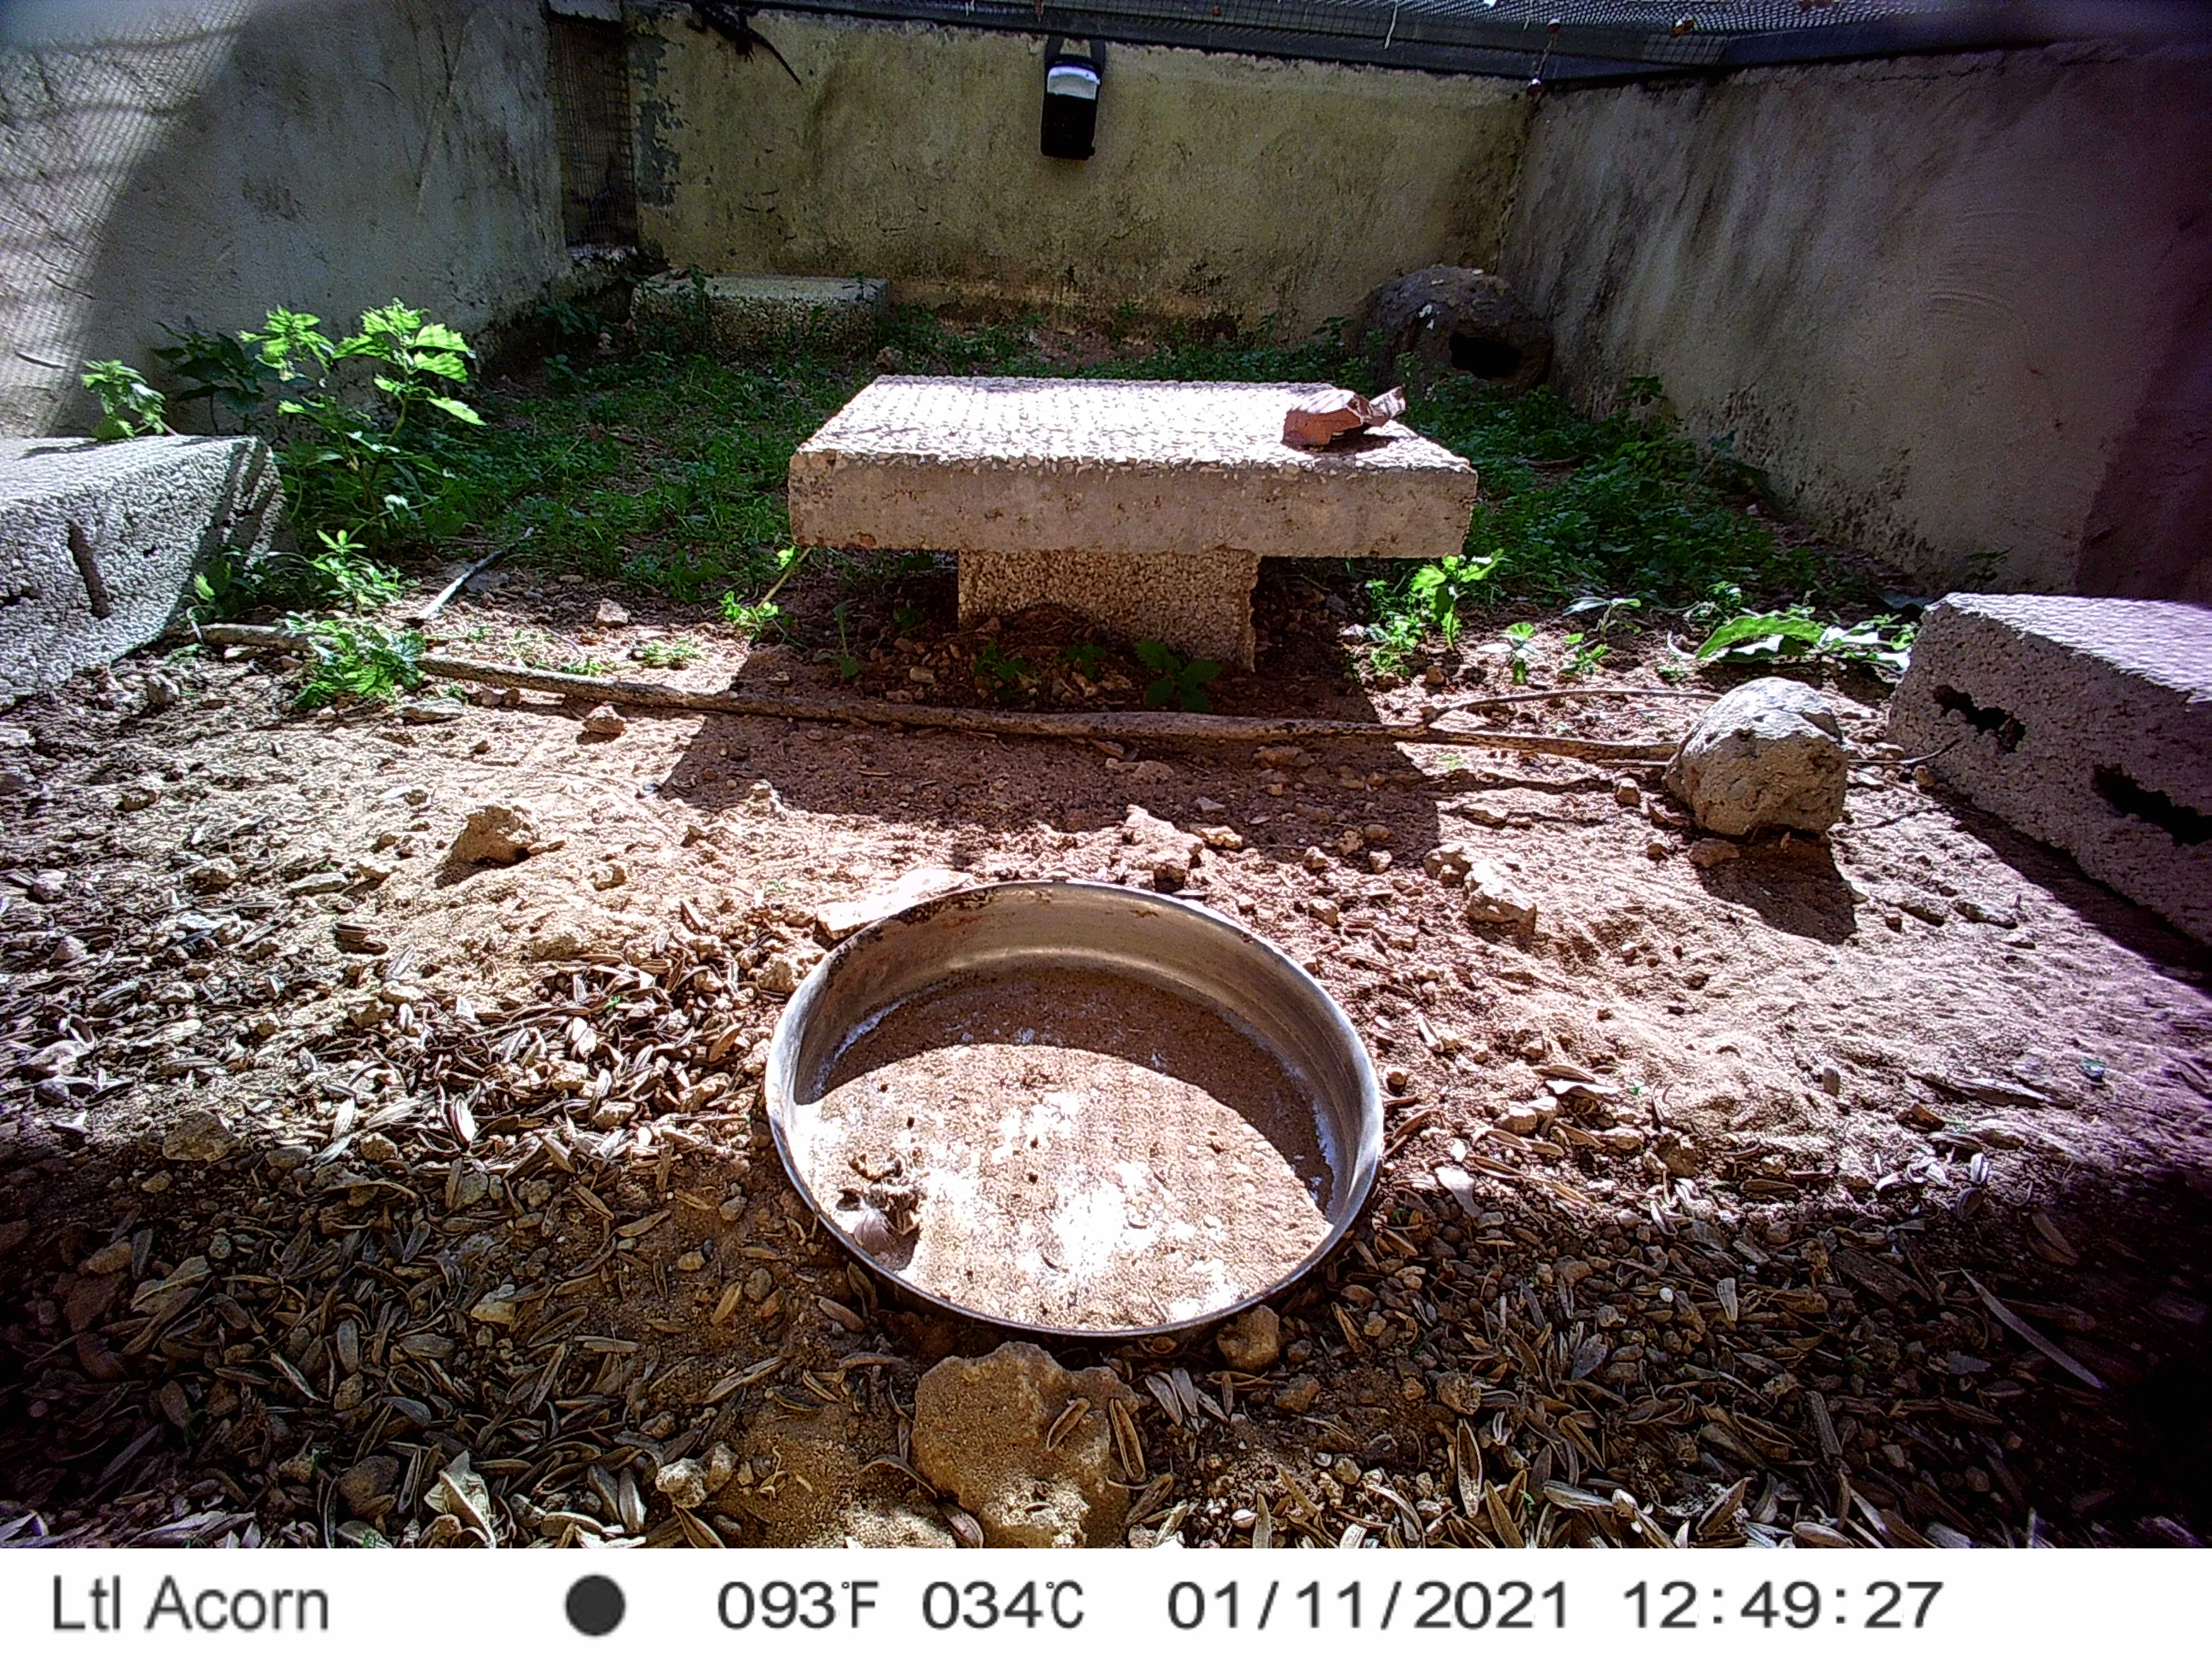lizard: (669, 3, 803, 85)
